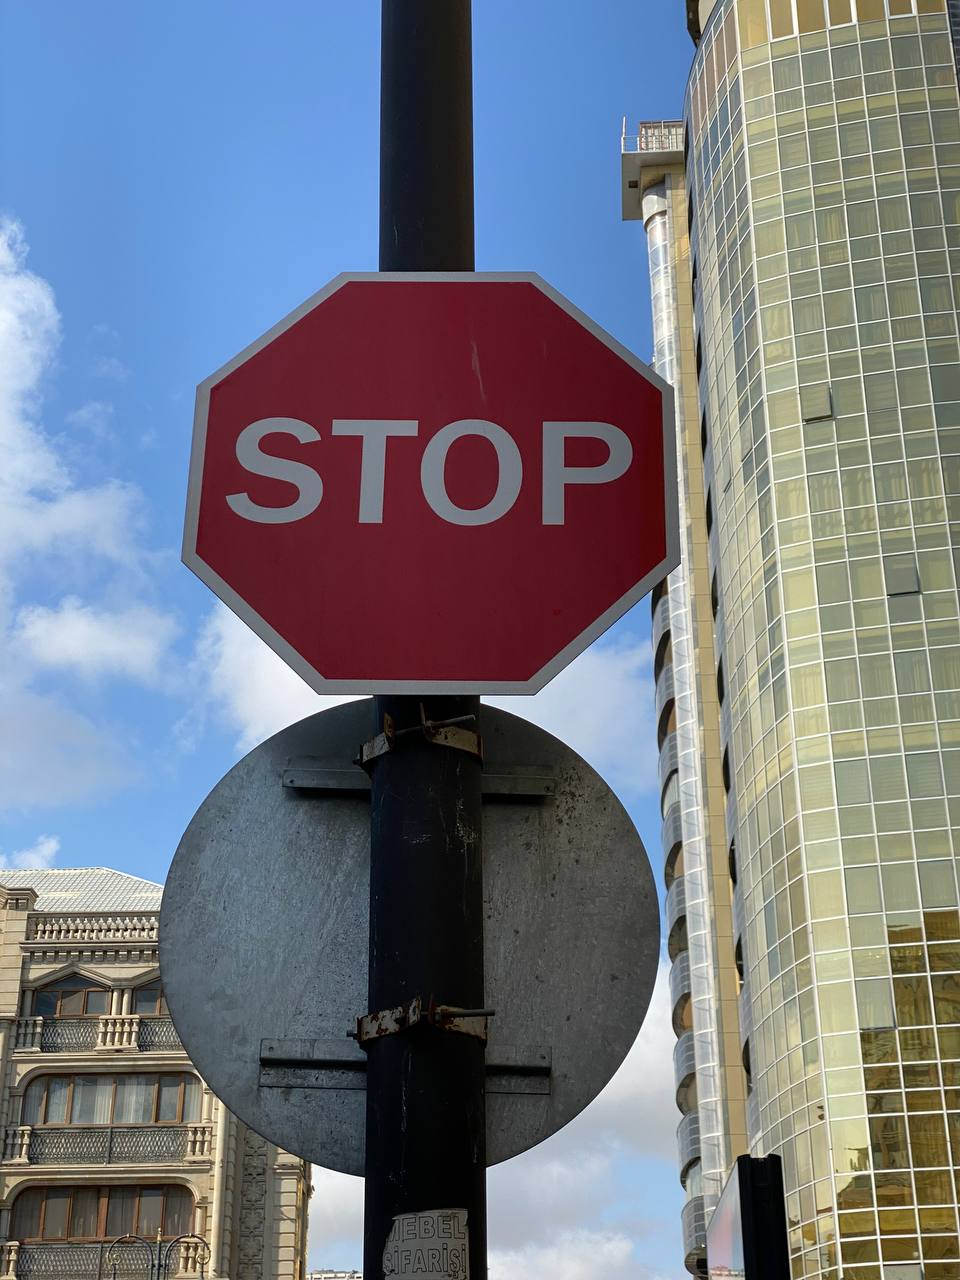STOP: (181, 271, 682, 696)
